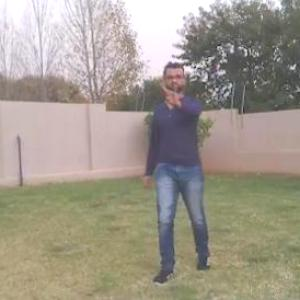takeoff-hand: (158, 74, 187, 107)
